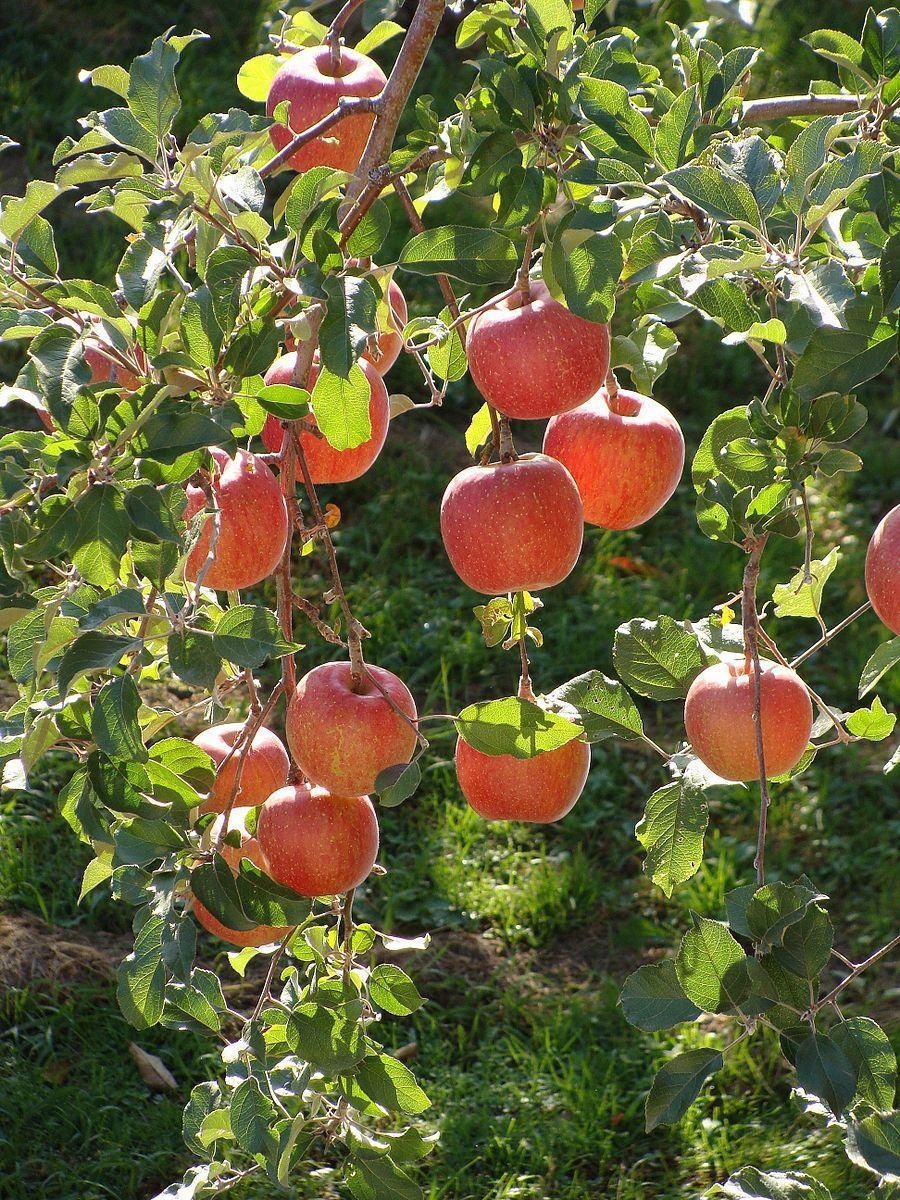apple: (440, 450, 583, 597), (542, 380, 680, 529), (282, 656, 425, 795), (260, 39, 395, 180), (680, 653, 823, 784), (469, 288, 606, 420), (452, 696, 590, 827), (261, 347, 388, 485), (179, 445, 290, 595), (257, 778, 377, 903), (189, 721, 294, 822)
